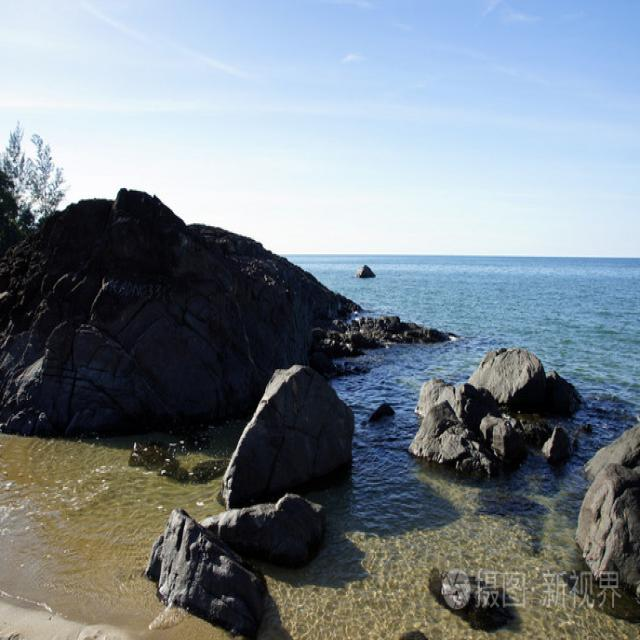reef: (116, 383, 384, 640), (188, 214, 423, 391), (396, 317, 572, 490)
